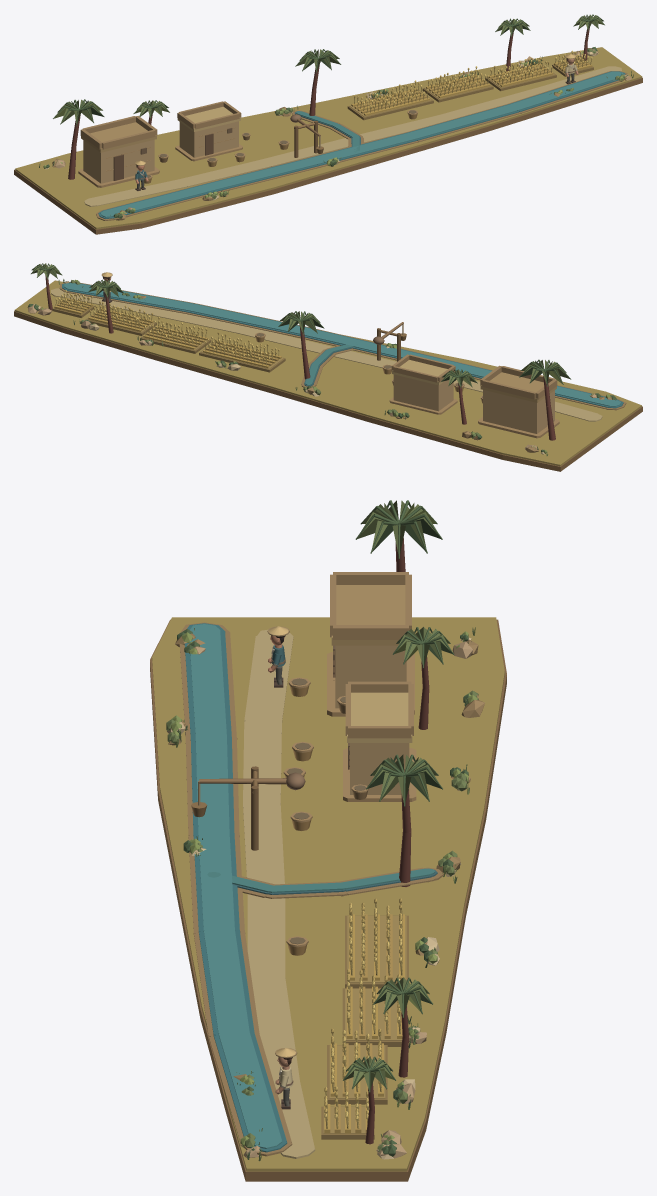
File: nile.glb
3 renders of one model, top to bottom at view 1: azimuth 30°, elevation 25°; view 2: azimuth 150°, elevation 25°; view 3: azimuth 270°, elevation 25°, orthographic. The views are drawn at different scales.
Parts seen in each view (by area): view 1: TerrainAndBuildings; view 2: TerrainAndBuildings; view 3: TerrainAndBuildings, NileSweepPivot.
Part boxes in pixels (x1,y1,x2,y2): TerrainAndBuildings: (14,14,642,234); TerrainAndBuildings: (14,263,642,471); TerrainAndBuildings: (150,500,506,1181); NileSweepPivot: (191,772,305,817).
Size of the model in its own units: 1.73 by 0.2289 by 0.4717.
